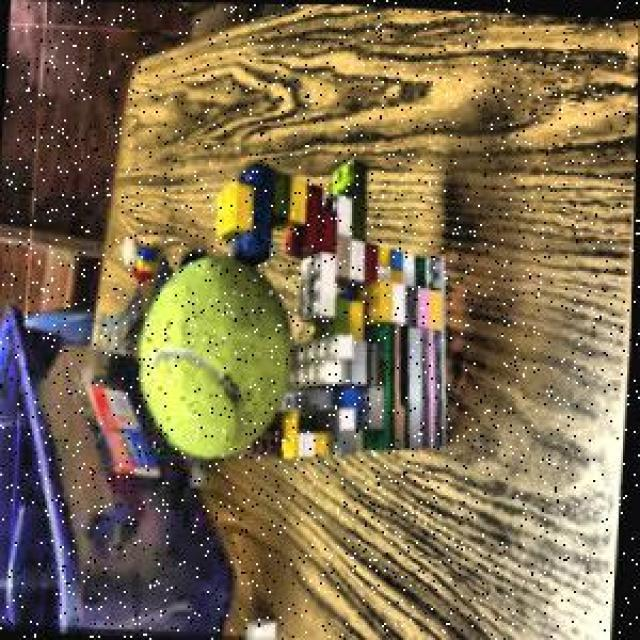tennis-ball: (134, 251, 302, 465)
